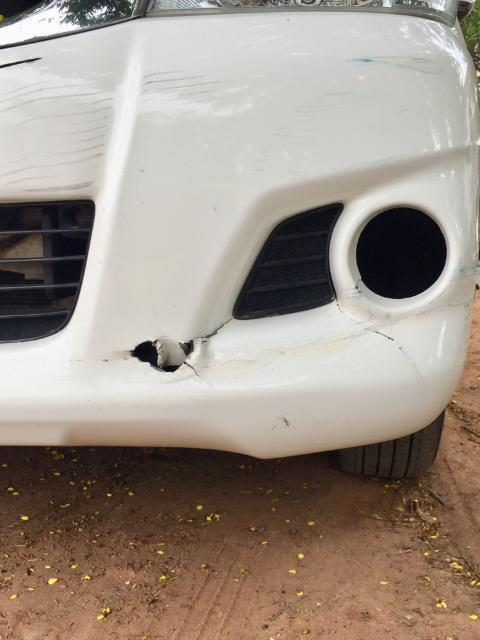crack: (335, 301, 428, 380), (131, 316, 233, 378)
scratch: (0, 61, 213, 198), (249, 52, 449, 182)
